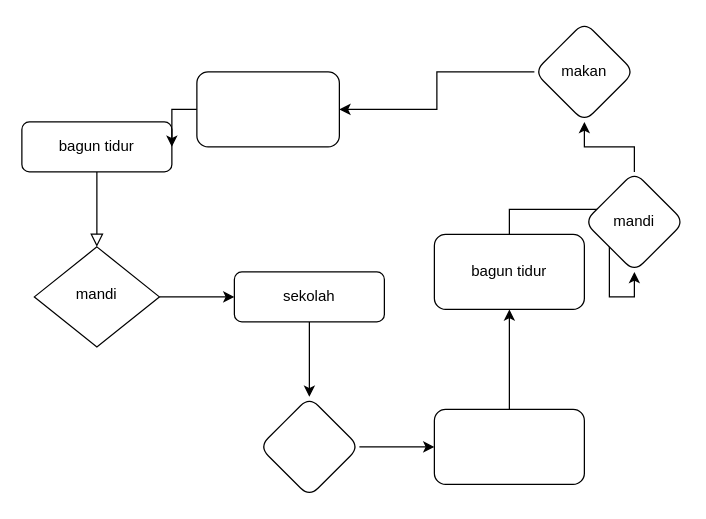
Image size: 706x519. Some labels were removed from this diagram. The shapes that lost their labels are listed below. From the top down, each one's centre as x and y in pixels, then its label:
At (267,109): "belajar".
At (308,446): "merapihkan tempat tidur".
At (508,446): "tidur siang".
